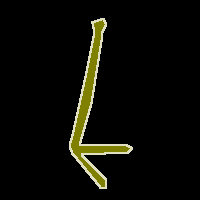tie: (70, 18, 132, 188)
